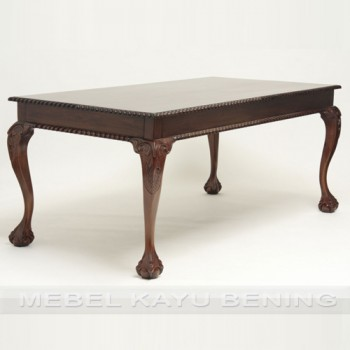Carving Table: (5, 74, 349, 285)
